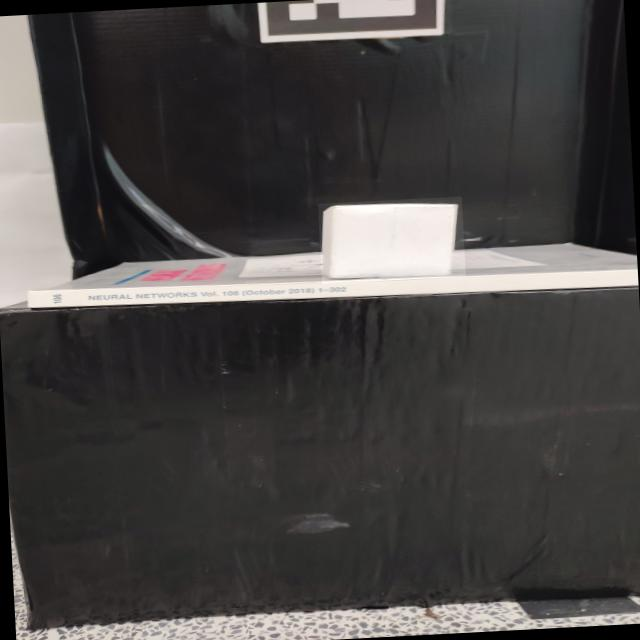bale: (318, 196, 466, 284)
